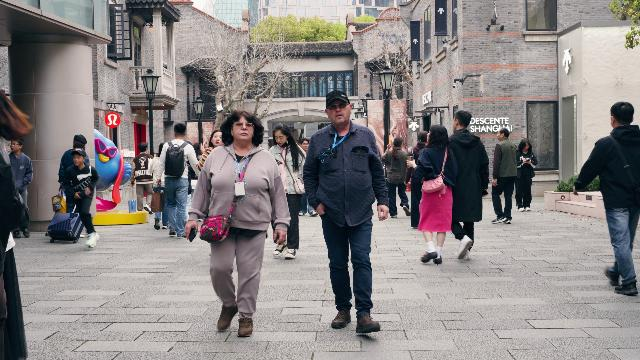person: (302, 94, 413, 350), (185, 110, 291, 337), (573, 101, 640, 296), (406, 124, 458, 264), (447, 110, 490, 261), (156, 123, 201, 239), (269, 122, 306, 259), (56, 134, 97, 239), (62, 148, 101, 248), (7, 137, 34, 239), (491, 127, 519, 224), (381, 137, 411, 218), (406, 131, 429, 228), (130, 141, 155, 215), (148, 146, 170, 230), (514, 138, 538, 212)
